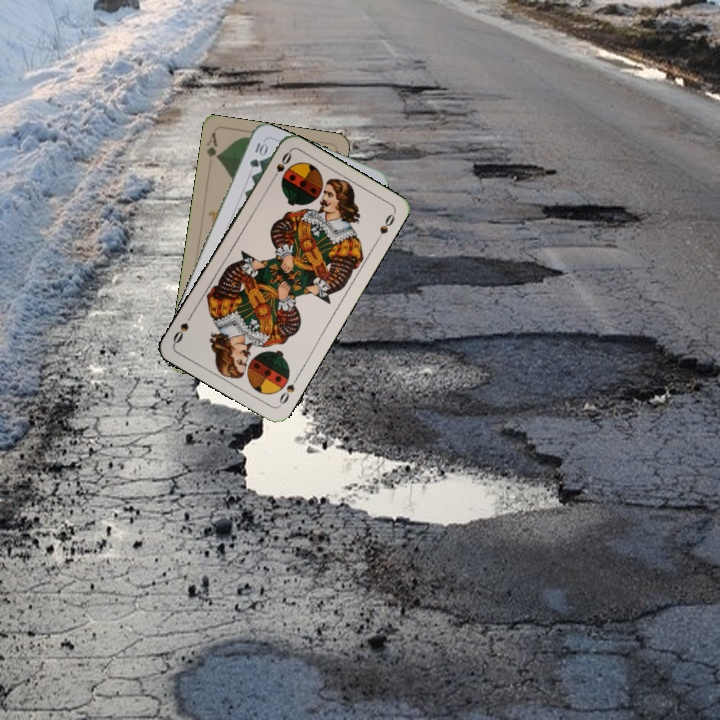G10: (245, 139, 269, 171)
GA: (202, 129, 221, 161)
SO: (267, 148, 294, 184), (275, 372, 301, 408)
